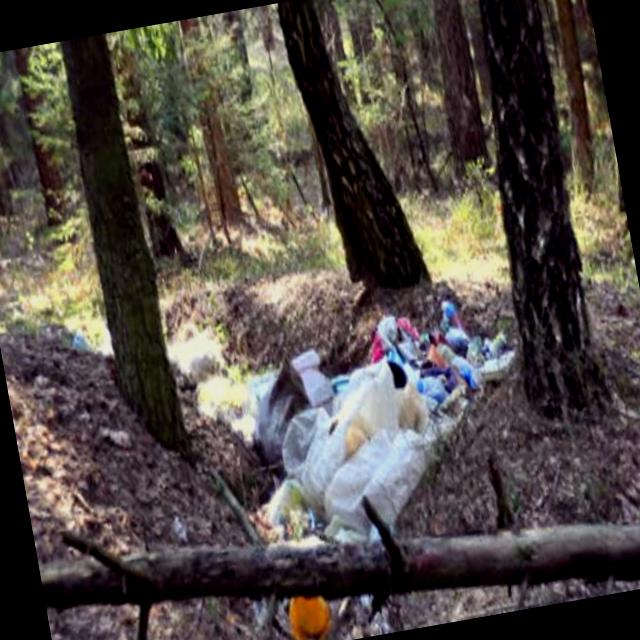garbage: (158, 232, 567, 640)
